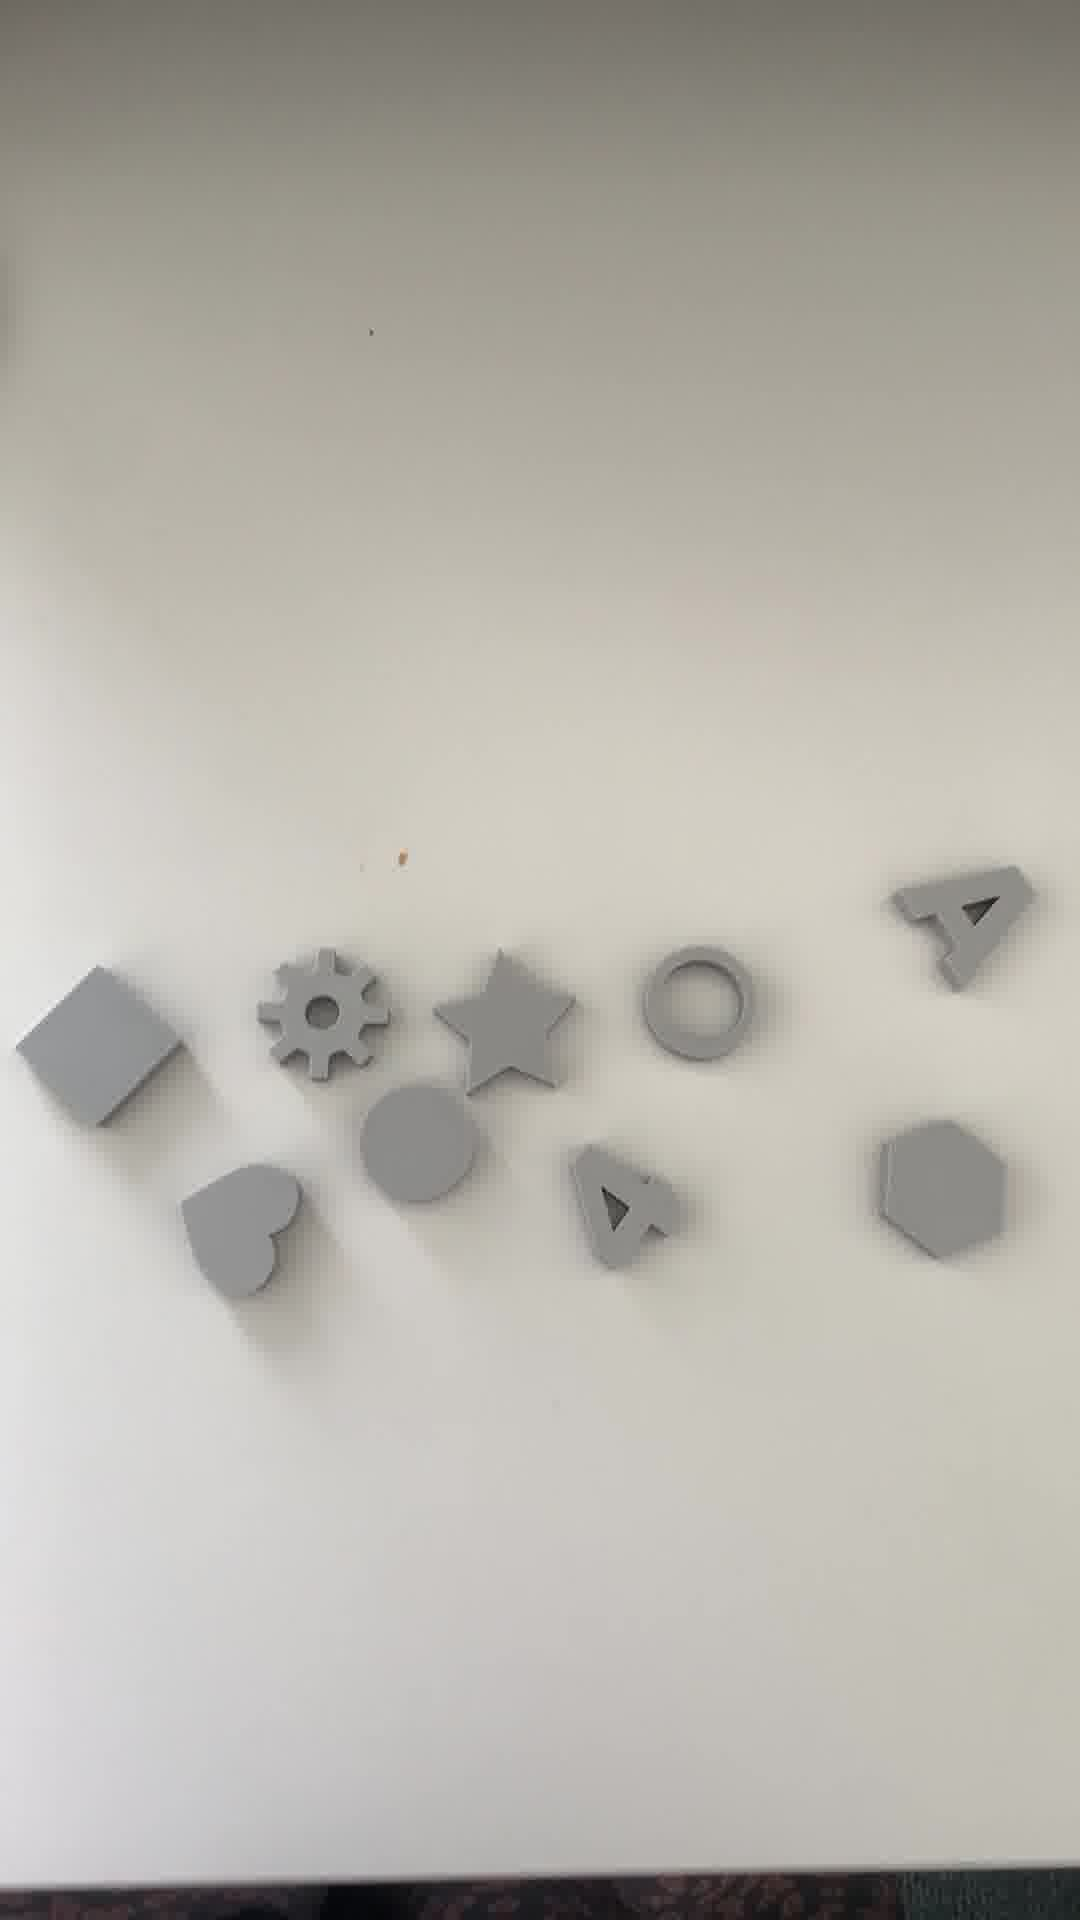Gray A-letter: (898, 855, 1044, 997)
Gray circle: (356, 1087, 488, 1199)
Gray four: (555, 1146, 696, 1276)
Gray gear: (251, 948, 396, 1087)
Gray heart: (174, 1156, 306, 1304)
Gray hexagon: (868, 1104, 1017, 1259)
Gray ring: (641, 942, 762, 1065)
Gray square: (18, 969, 179, 1139)
Gray star: (427, 953, 578, 1091)
